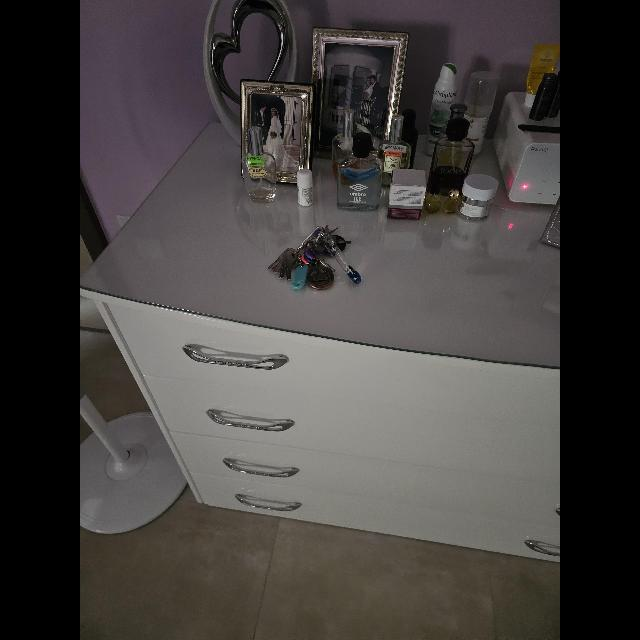Keys: (268, 222, 358, 288)
